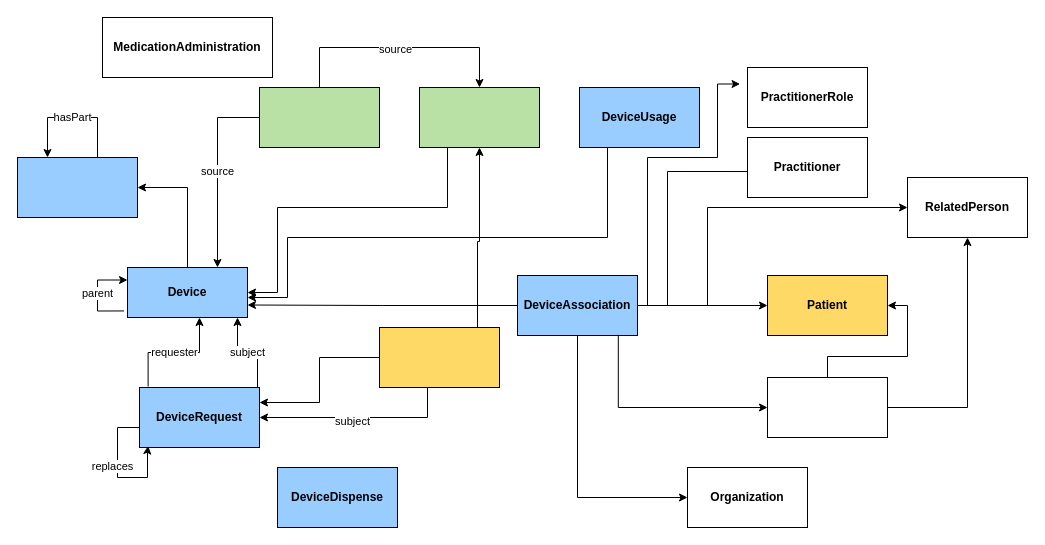
This 1045x545 diagram has some shape labels left out. The shapes that lost their labels are listed below. From the top down, each one's box as (x1, y1, x2, y2) in pixels, then its label:
(258, 86, 380, 148): DeviceAlert
(418, 86, 540, 148): DeviceMetric
(16, 156, 138, 218): DeviceDefinition
(378, 326, 500, 388): Observation
(766, 376, 888, 438): Group
